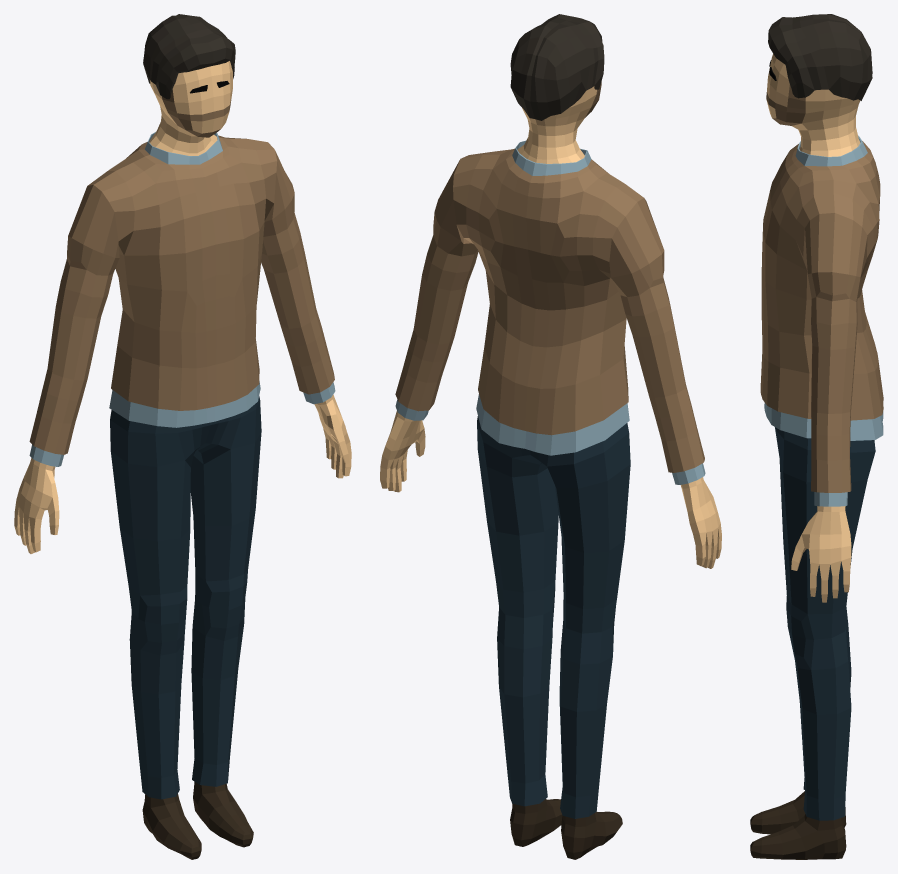
File: human_scale.glb
3 views of the same model, side by side, from view 1: azimuth 30°, elevation 25°; view 2: azimuth 150°, elevation 25°; view 3: azimuth 270°, elevation 25° (orthographic). The views are drawn at different scales.
Parts seen in each view (by area): view 1: ManCasual5.009; view 2: ManCasual5.009; view 3: ManCasual5.009.
Part boxes in pixels (x1,y1,x2,y2): ManCasual5.009: [14, 14, 351, 859]; ManCasual5.009: [380, 14, 721, 859]; ManCasual5.009: [750, 14, 883, 859].
Size of the model in its own units: 0.7673 by 1.86 by 0.2714.
Materials: 1 (1 with a texture image).
